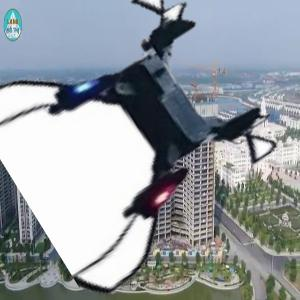drone: (6, 2, 265, 261)
